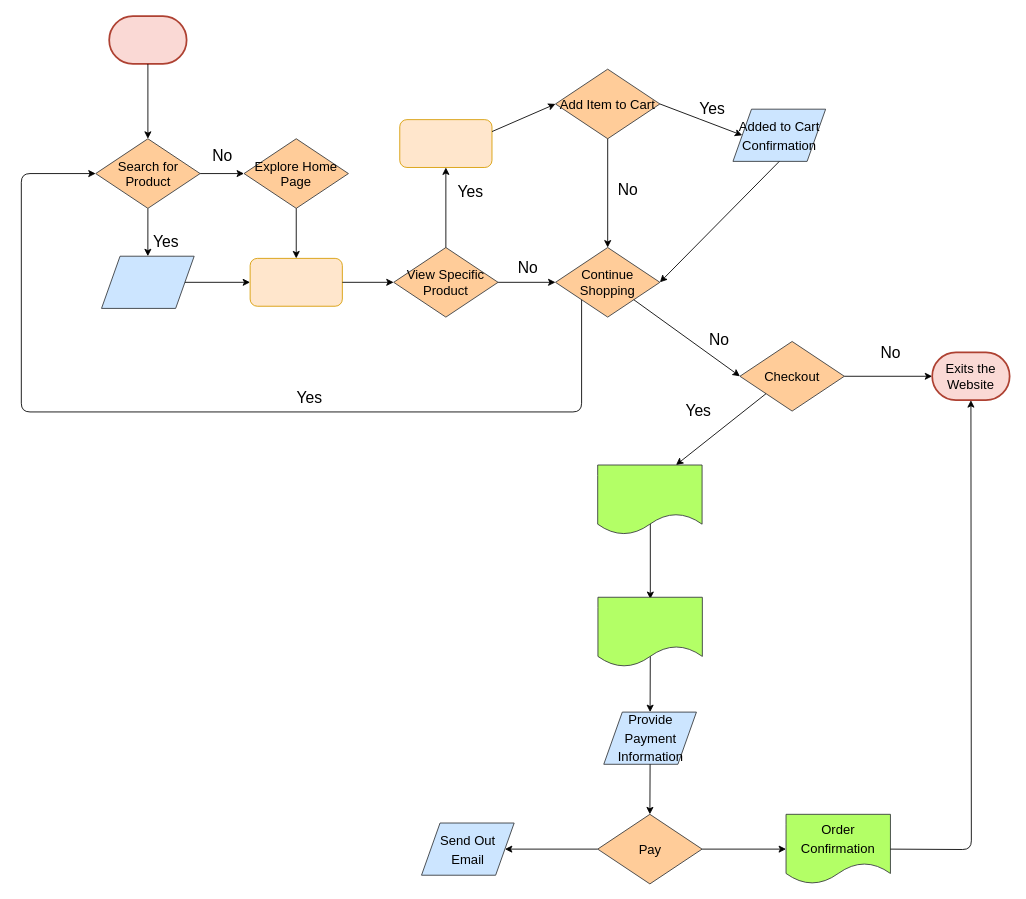
Image size: 1026x899. Some labels were removed from this diagram. The shapes that lost their labels are listed below. From the top down, each one's centre as x and y in pixels, then its label:
point (147, 39): Enters the Website
point (445, 143): Product's webpage opens
point (147, 281): Provide product to search for
point (295, 282): User browses products
point (649, 499): View Cart Screen
point (649, 631): View Payment Screen
